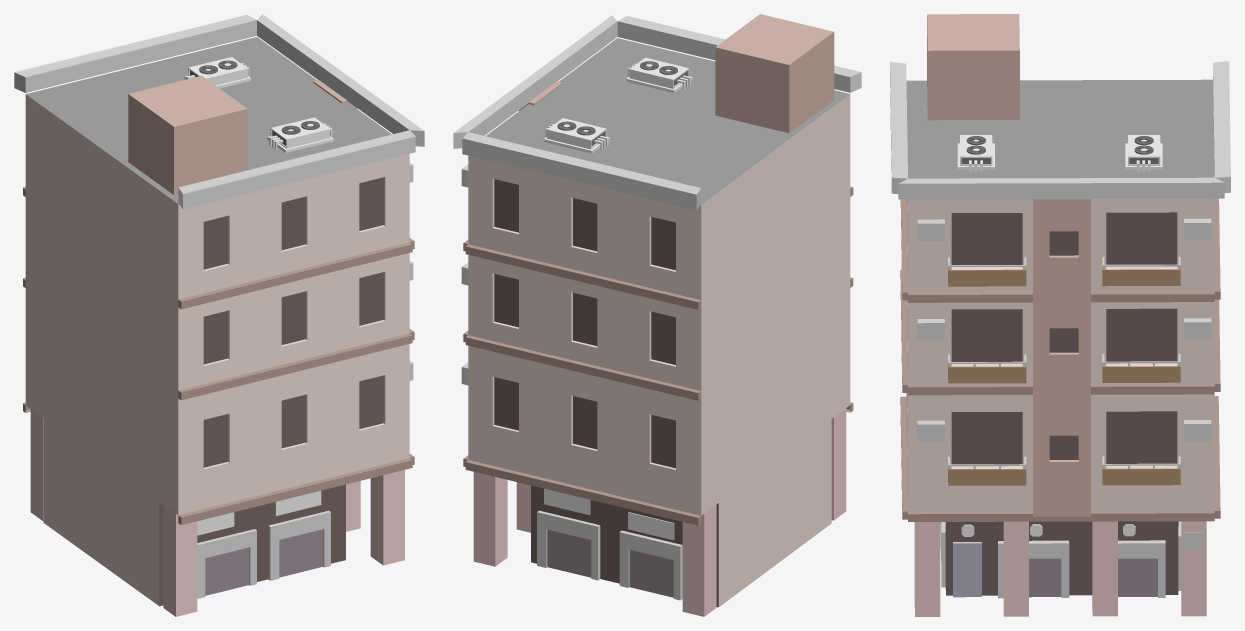
Rendered from Building_03.glb.
3 renders of one model, left to right at view 1: azimuth 30°, elevation 25°; view 2: azimuth 150°, elevation 25°; view 3: azimuth 270°, elevation 25°, orthographic.
Parts seen in each view (by area): view 1: Cube.027, Cube.011, Plane.018, Cube.021, Cube.031, Cube.033, Cube.017, Cube.010, Cube.009, Cube.13376, Cube.13375, Plane.031 (+1 smaller); view 2: Cube.027, Cube.011, Plane.018, Cube.021, Cube.030, Cube.032, Cube.017, Cube.009, Cube.010, Cube.13376, Cube.13375, Plane.029 (+1 smaller); view 3: Cube.027, Plane.020, Cube.011, Plane.018, Cube.021, Cube.017, Cube.010, Cube.009, Cube.040, Cube.039, Cube.024, Cube.018 (+13 smaller).
Boxes of the visible parts, x1,y1,x2,y2 form: Cube.027: [25, 37, 409, 606]; Cube.011: [14, 14, 424, 209]; Plane.018: [128, 75, 247, 195]; Cube.021: [30, 409, 404, 616]; Cube.031: [268, 510, 330, 580]; Cube.033: [197, 529, 256, 598]; Cube.017: [23, 402, 414, 524]; Cube.010: [23, 187, 414, 309]; Cube.009: [23, 278, 414, 400]; Cube.13376: [267, 117, 333, 152]; Cube.13375: [184, 57, 250, 88]; Plane.031: [275, 490, 321, 515]; Cube.027: [468, 38, 850, 607]; Cube.011: [453, 15, 861, 210]; Plane.018: [715, 14, 834, 133]; Cube.021: [473, 408, 846, 616]; Cube.030: [619, 530, 682, 600]; Cube.032: [537, 510, 600, 580]; Cube.017: [463, 402, 853, 525]; Cube.009: [463, 277, 853, 400]; Cube.010: [463, 186, 853, 309]; Cube.13376: [626, 57, 692, 92]; Cube.13375: [543, 118, 609, 153]; Plane.029: [628, 512, 674, 540]; Cube.027: [906, 79, 1214, 595]; Plane.020: [1033, 199, 1090, 516]; Cube.011: [890, 61, 1230, 199]; Plane.018: [927, 14, 1019, 120]; Cube.021: [914, 521, 1206, 616]; Cube.017: [900, 396, 1220, 521]; Cube.010: [900, 198, 1220, 302]; Cube.009: [900, 270, 1220, 395]; Cube.040: [1118, 540, 1165, 597]; Cube.039: [998, 540, 1069, 598]; Cube.024: [1102, 456, 1180, 485]; Cube.018: [1102, 257, 1180, 286].
Size of the model in its own units: 0.2997 by 0.5467 by 0.3435.
